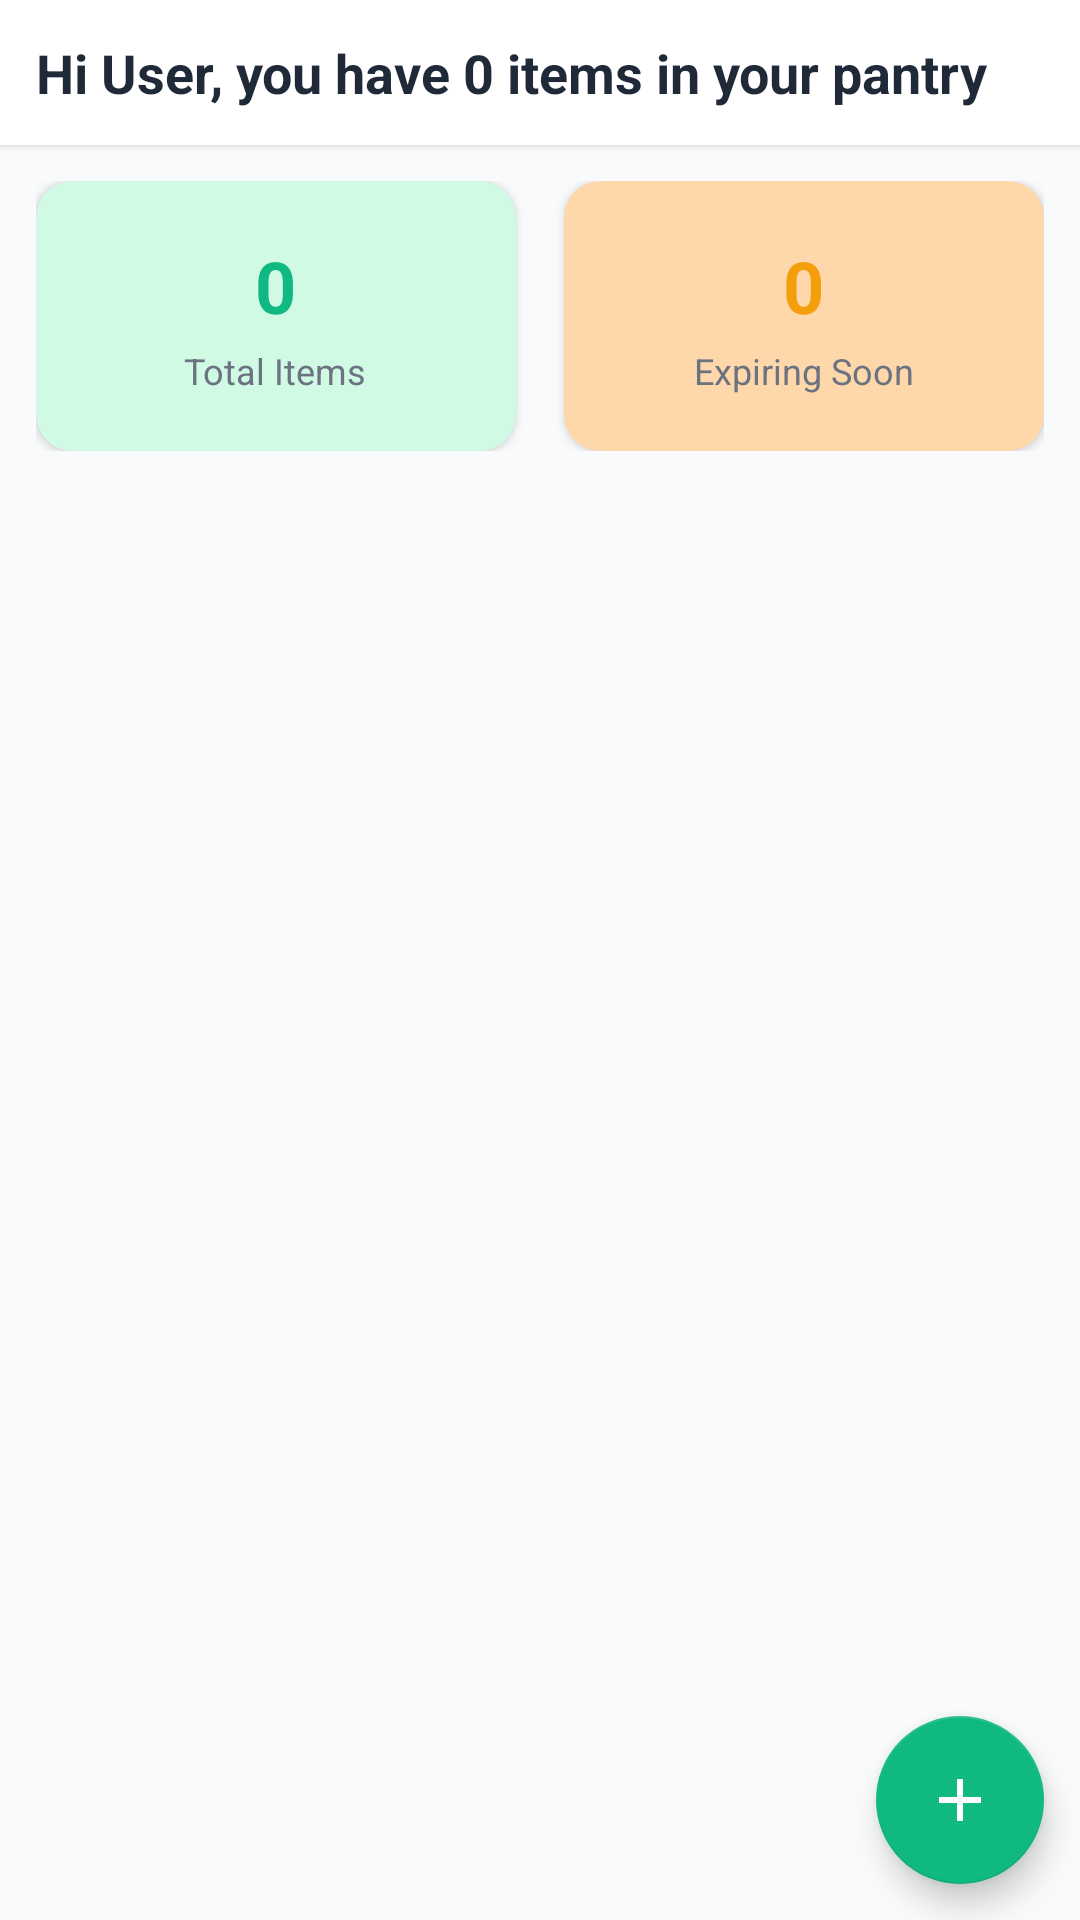

Screen size 1080x1920. Icon name, then its center in pixels as (x=x, y=y):
add: (x=960, y=1800)
